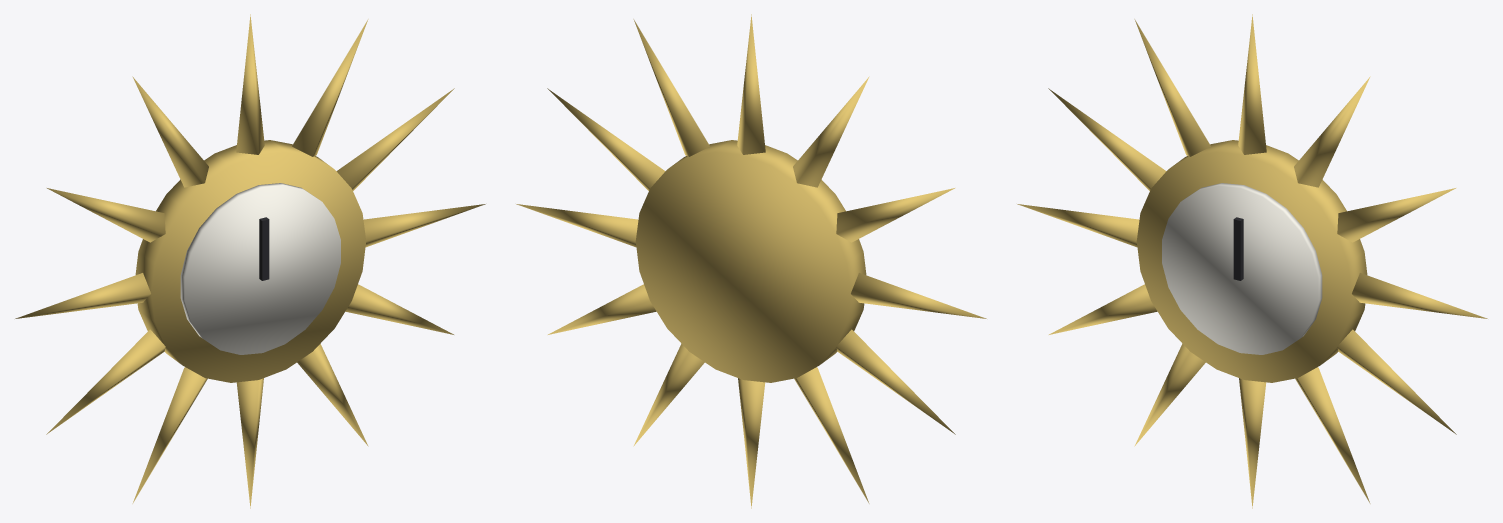
Rendered from clock_wall_sun.glb.
3 views of the same model, side by side, from view 1: azimuth 30°, elevation 25°; view 2: azimuth 150°, elevation 25°; view 3: azimuth 330°, elevation 25° (orthographic).
Visible parts, largest first — view 1: GD_clock_wall_sun__m0, GD_clock_wall_sun__m1, GD_clock_wall_sun__m2; view 2: GD_clock_wall_sun__m0; view 3: GD_clock_wall_sun__m0, GD_clock_wall_sun__m1, GD_clock_wall_sun__m2.
Part boxes in pixels (<box>): GD_clock_wall_sun__m0: <box>15,14,485,508</box>; GD_clock_wall_sun__m1: <box>180,183,340,354</box>; GD_clock_wall_sun__m2: <box>259,217,269,280</box>; GD_clock_wall_sun__m0: <box>516,14,986,508</box>; GD_clock_wall_sun__m0: <box>1017,14,1487,508</box>; GD_clock_wall_sun__m1: <box>1162,183,1322,354</box>; GD_clock_wall_sun__m2: <box>1233,217,1243,280</box>.
Bounding box in the file's own units: 0.66 × 0.66 × 0.057.
